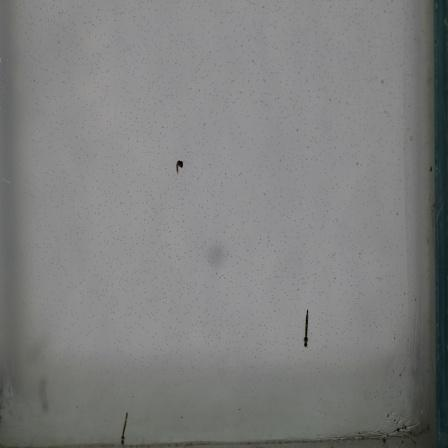Jentik-Nyamuk: (298, 308, 313, 351), (117, 409, 132, 448), (172, 156, 188, 176)
